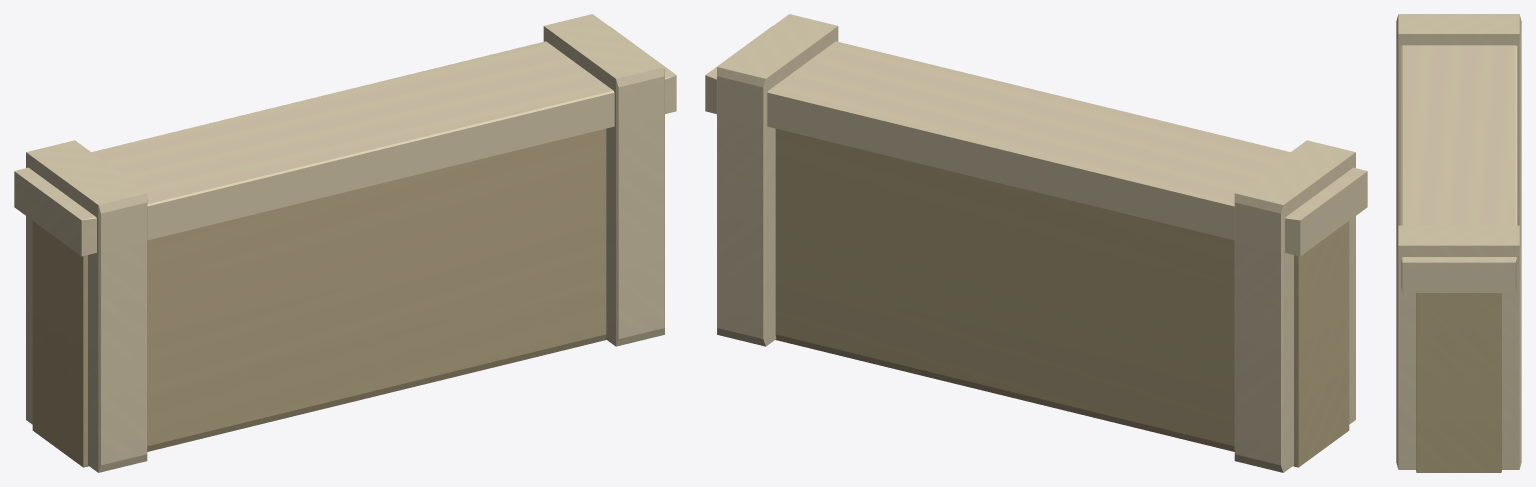
Rendered from SM_WC_LowWall.fbx.
3 views of the same model, side by side, from view 1: azimuth 30°, elevation 25°; view 2: azimuth 150°, elevation 25°; view 3: azimuth 270°, elevation 25° (orthographic). The views are drawn at different scales.
Parts seen in each view (by area): view 1: SM_WC_LowWall; view 2: SM_WC_LowWall; view 3: SM_WC_LowWall.
Boxes of the visible parts, x1,y1,x2,y2 form: SM_WC_LowWall: (14,14,676,472); SM_WC_LowWall: (705,14,1367,472); SM_WC_LowWall: (1396,14,1521,472).
Bounding box in the file's own units: 2.07 × 0.45 × 0.895.
